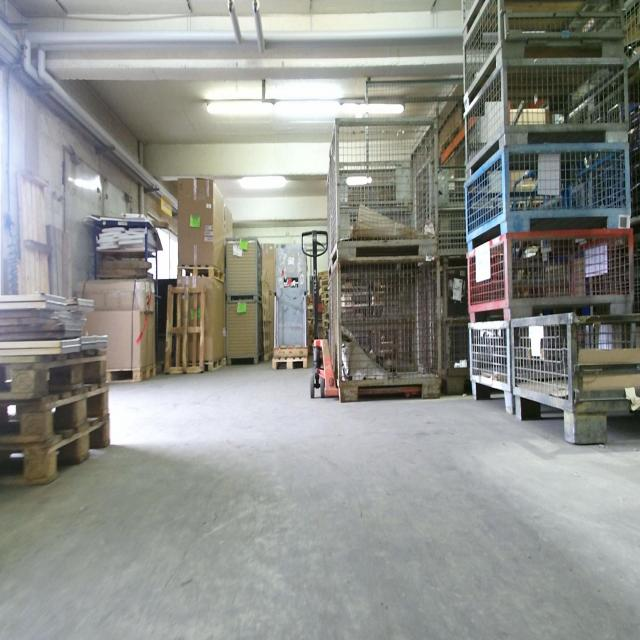pallet: (2, 415, 108, 488), (1, 384, 108, 444), (2, 348, 110, 398), (167, 285, 205, 373), (111, 357, 160, 388), (176, 264, 222, 280), (271, 354, 309, 371), (204, 359, 223, 372)
pallet_truck: (300, 225, 431, 402)
stillage: (440, 255, 580, 398), (464, 142, 632, 255), (463, 0, 632, 110), (509, 302, 639, 442), (464, 60, 632, 168), (330, 114, 440, 271), (332, 258, 446, 407), (465, 318, 638, 416), (466, 232, 639, 320), (328, 271, 437, 383), (323, 159, 427, 272), (462, 3, 629, 47), (223, 298, 263, 367), (223, 235, 263, 301)
